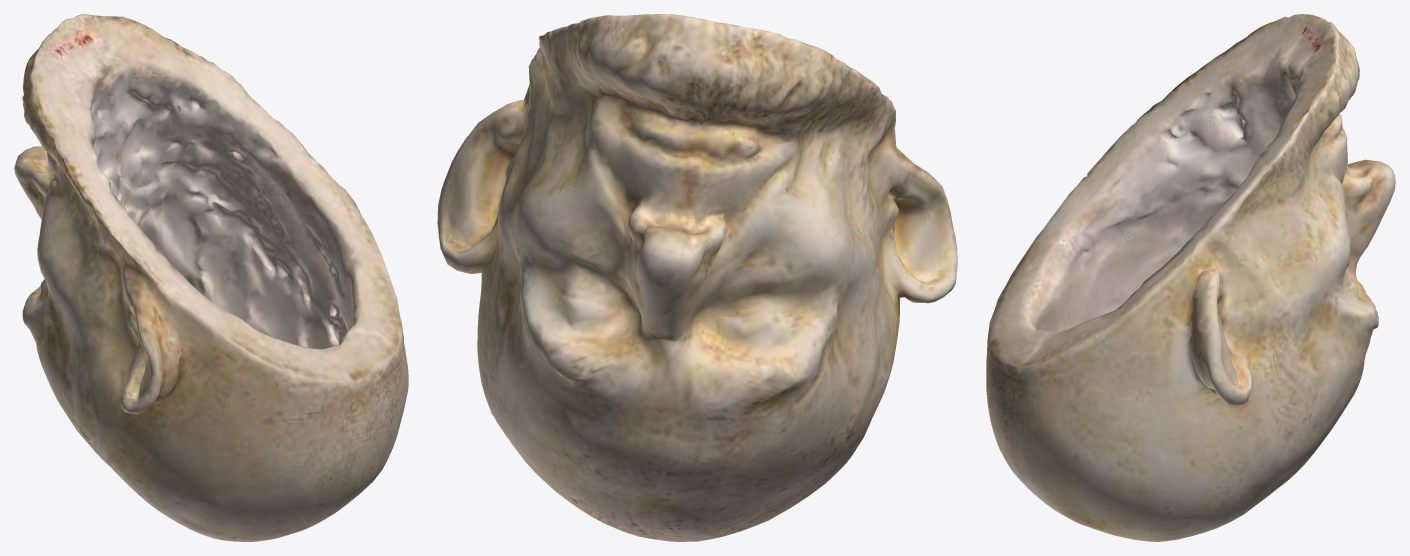
3 renders of one model, left to right at view 1: azimuth 30°, elevation 25°; view 2: azimuth 150°, elevation 25°; view 3: azimuth 270°, elevation 25°, orthographic. The views are drawn at different scales.
Size of the model in its own units: 197 by 276 by 222.
1 material, 1 textured.
